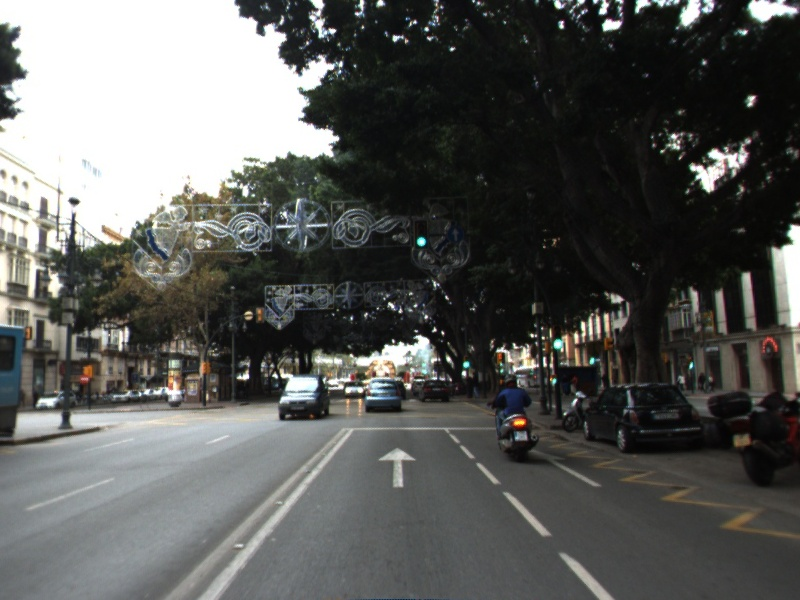STRAIGHT: (526, 447, 604, 488), (376, 445, 418, 489)
